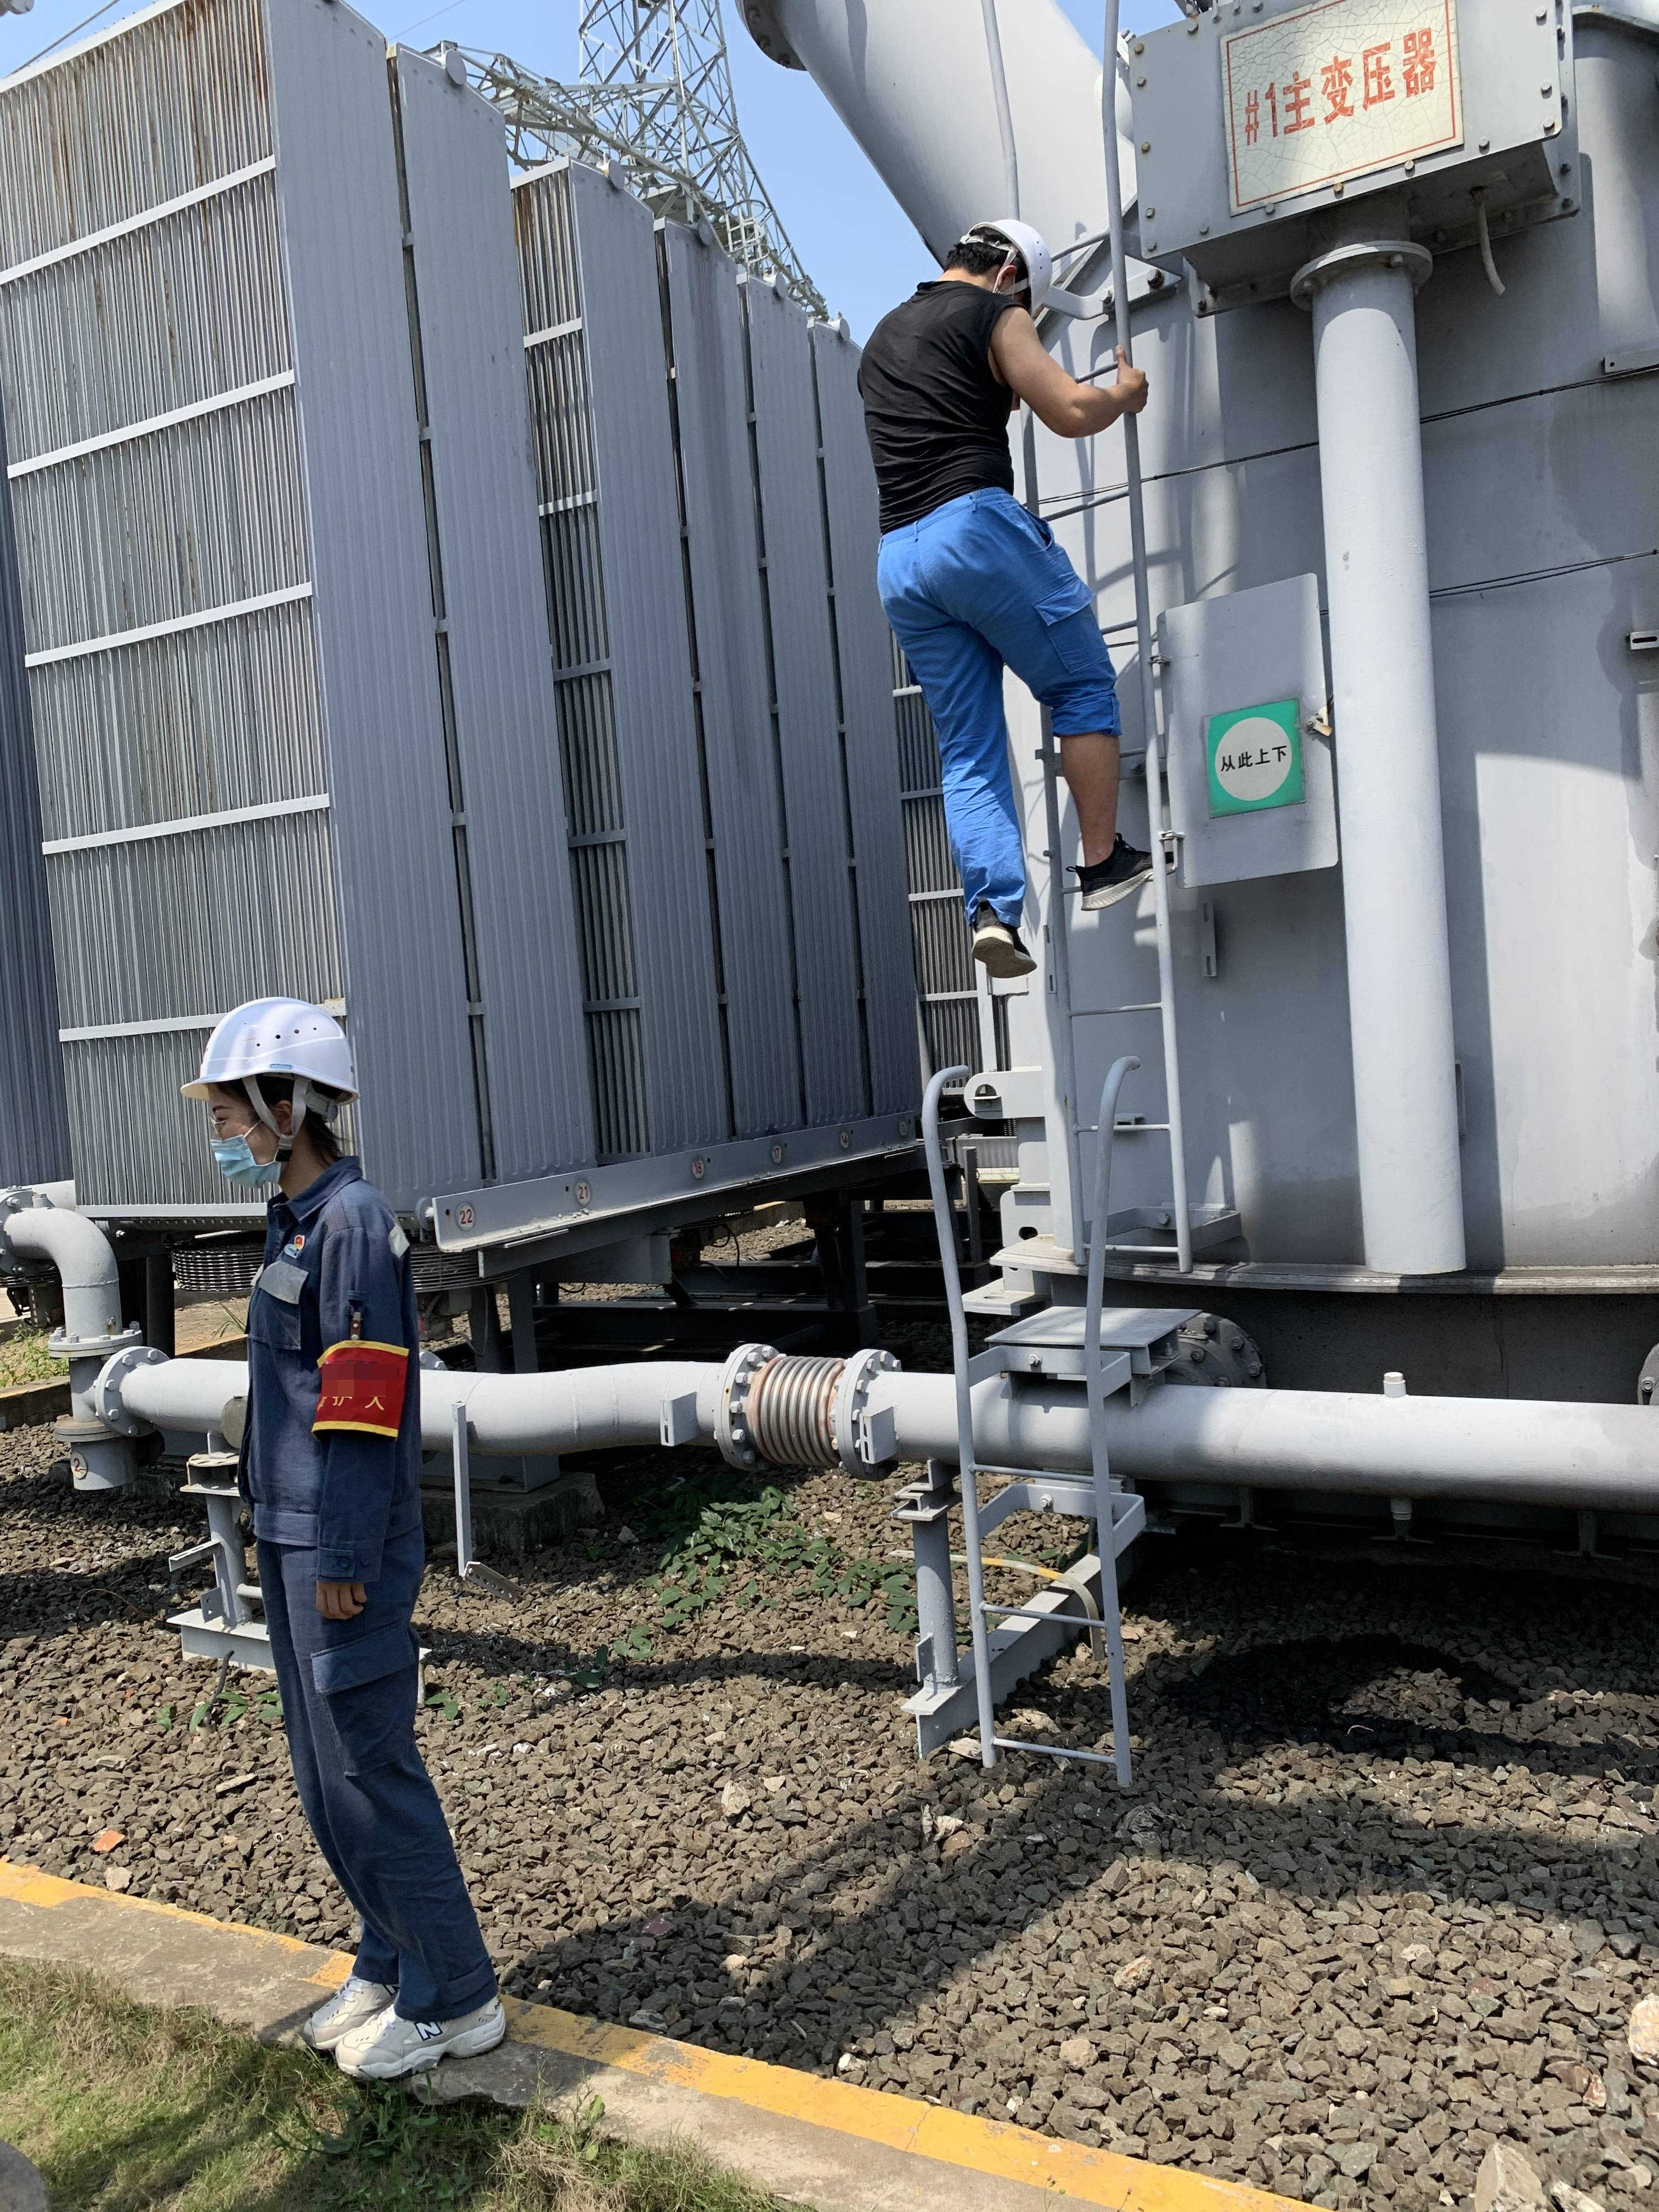downsuit: (871, 496, 1129, 923), (254, 1573, 490, 2012)
upcloth: (856, 279, 1025, 514)
upsuit: (228, 1174, 434, 1559)
wrongbottom: (1047, 704, 1140, 871)
